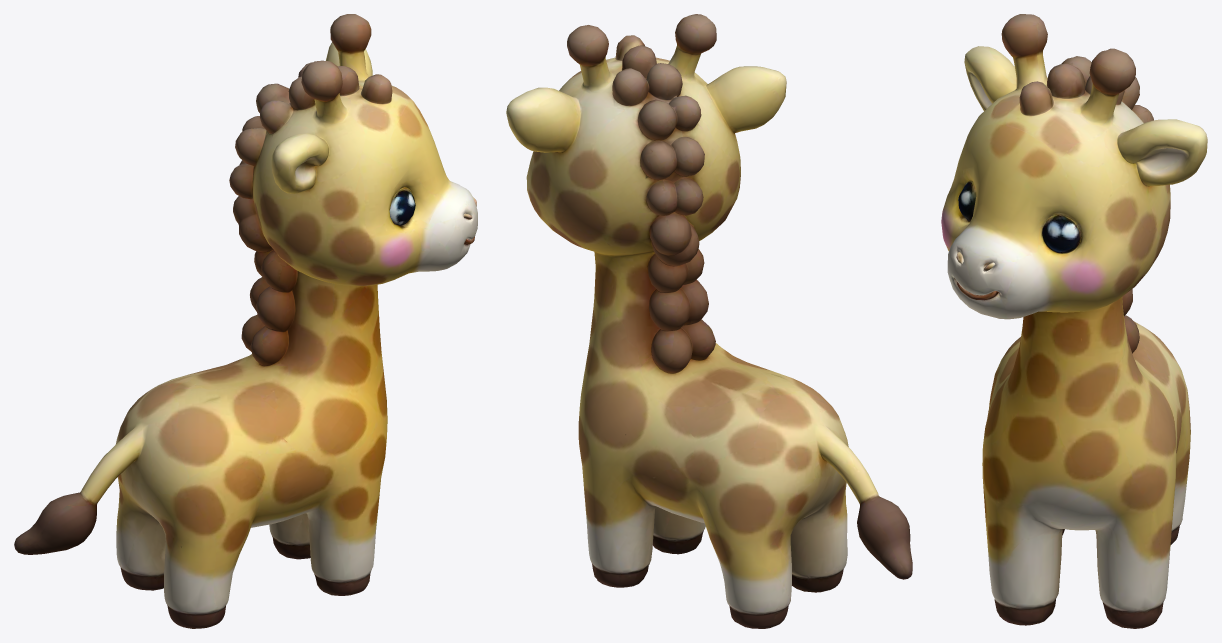
File: animal_giraffe.glb
3 renders of one model, left to right at view 1: azimuth 30°, elevation 25°; view 2: azimuth 150°, elevation 25°; view 3: azimuth 270°, elevation 25°, orthographic. The views are drawn at different scales.
Visible parts, largest first — view 1: node_0; view 2: node_0; view 3: node_0.
Boxes of the visible parts, x1,y1,x2,y2 form: node_0: (14,14,477,628); node_0: (506,14,912,628); node_0: (941,14,1207,628).
Bounding box in the file's own units: 0.8345 × 1.06 × 0.4313.
1 material, 1 textured.
